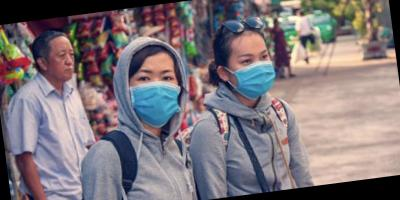with_mask: (128, 64, 186, 133), (226, 47, 279, 104)
without_mask: (47, 47, 76, 81)
